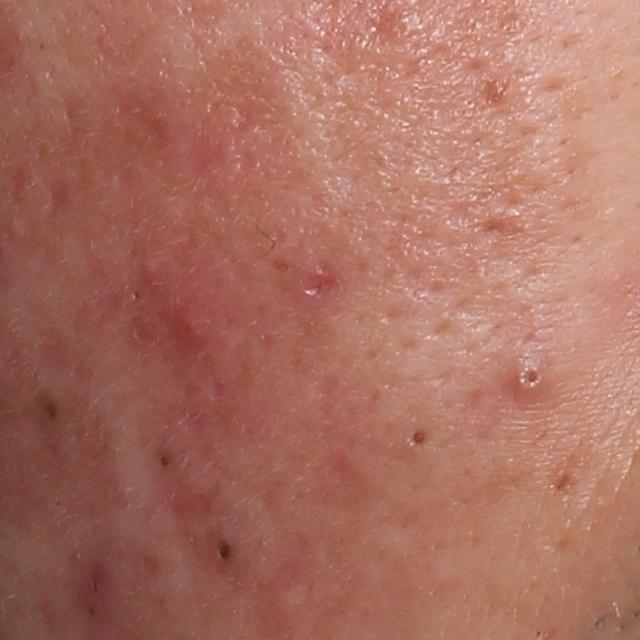atrophic_scar: (296, 253, 337, 298), (471, 215, 523, 236)
comedo: (404, 424, 435, 452), (215, 540, 234, 565), (157, 448, 175, 469)
papule: (161, 293, 213, 353), (511, 356, 556, 404)
